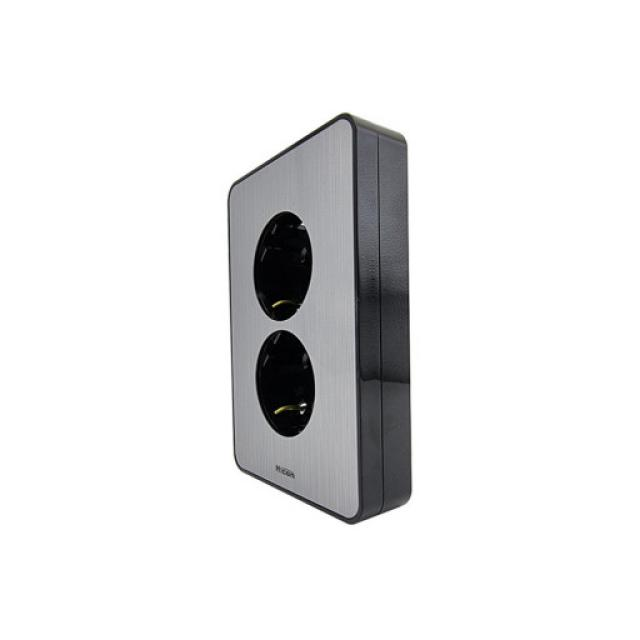typeb: (190, 101, 503, 548)
